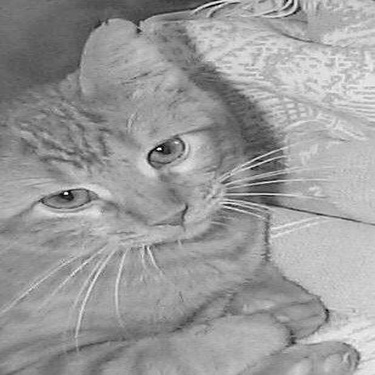cat: (9, 17, 367, 365)
